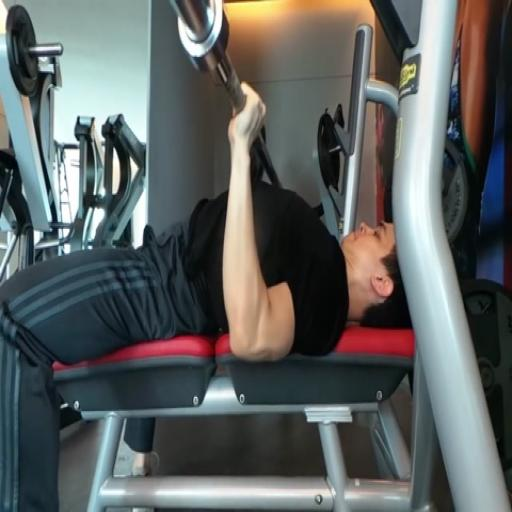exercise: (0, 78, 412, 511)
